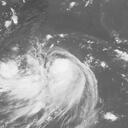cyclone: (29, 49, 87, 106)
